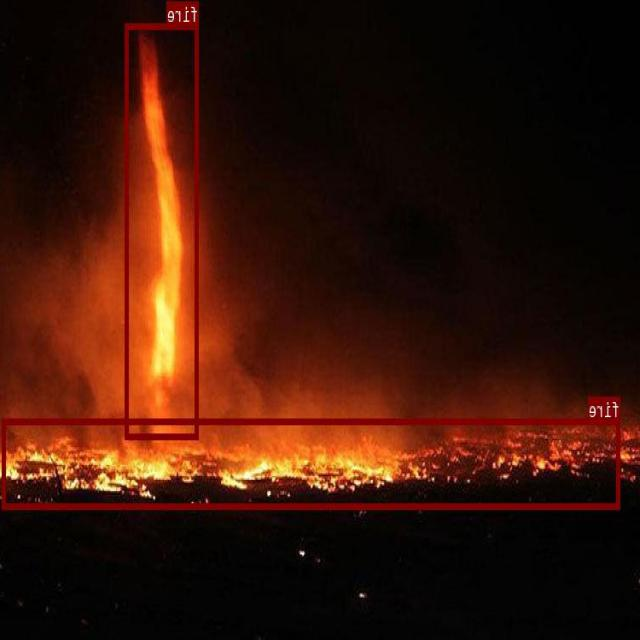fire: (2, 418, 620, 508), (126, 23, 200, 439)
